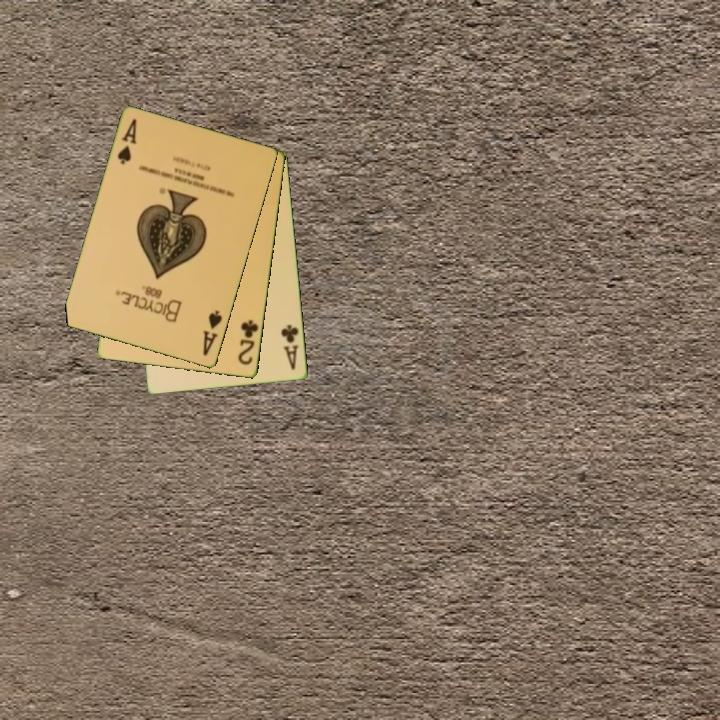2c: (235, 317, 262, 368)
Ac: (278, 321, 302, 373)
As: (114, 115, 140, 168), (200, 307, 225, 359)
